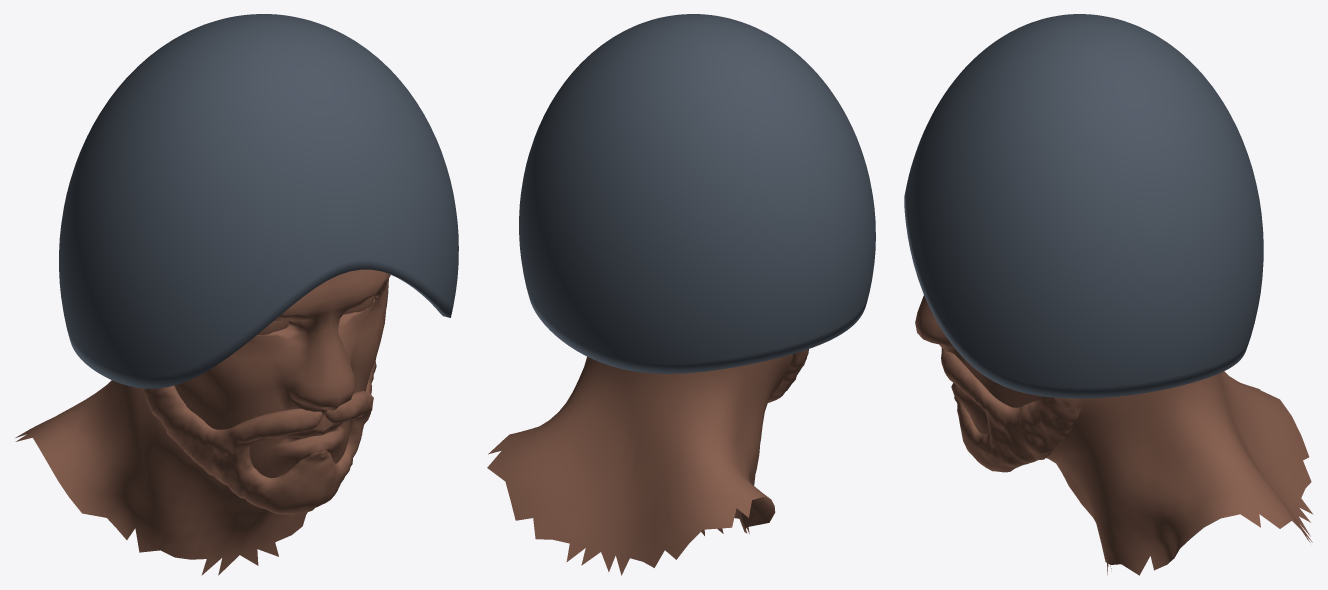
The model's file is leonidas-helmet-dome-stage-01.glb.
3 views of the same model, side by side, from view 1: azimuth 30°, elevation 25°; view 2: azimuth 150°, elevation 25°; view 3: azimuth 270°, elevation 25° (orthographic). The views are drawn at different scales.
Visible parts, largest first — view 1: LeonidasHelmetDomeStage01, LeonidasHeadFitProxy; view 2: LeonidasHelmetDomeStage01, LeonidasHeadFitProxy; view 3: LeonidasHelmetDomeStage01, LeonidasHeadFitProxy.
Part boxes in pixels (<box>): LeonidasHelmetDomeStage01: <box>59,14,458,388</box>; LeonidasHeadFitProxy: <box>15,269,390,575</box>; LeonidasHelmetDomeStage01: <box>519,14,875,373</box>; LeonidasHeadFitProxy: <box>487,349,808,575</box>; LeonidasHelmetDomeStage01: <box>904,14,1263,398</box>; LeonidasHeadFitProxy: <box>915,295,1313,575</box>.
Bounding box in the file's own units: 0.1852 × 0.2776 × 0.1922.
